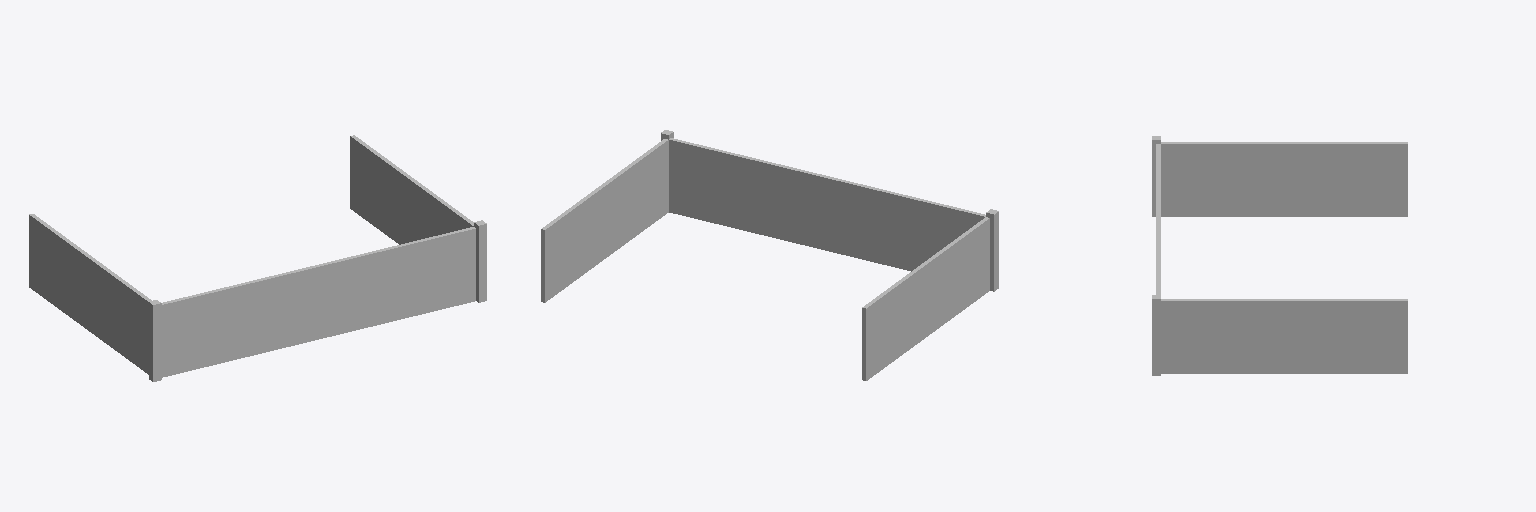
Rendered from fence_rectangle.obj.
3 views of the same model, side by side, from view 1: azimuth 30°, elevation 25°; view 2: azimuth 150°, elevation 25°; view 3: azimuth 270°, elevation 25° (orthographic).
Parts seen in each view (by area): view 1: fence_rectangle; view 2: fence_rectangle; view 3: fence_rectangle.
Part boxes in pixels (left/top/right/bottom): fence_rectangle: left=29, top=135, right=486, bottom=381; fence_rectangle: left=541, top=130, right=998, bottom=380; fence_rectangle: left=1152, top=136, right=1407, bottom=375.
Bounding box in the file's own units: 1.2 × 0.265 × 0.8.